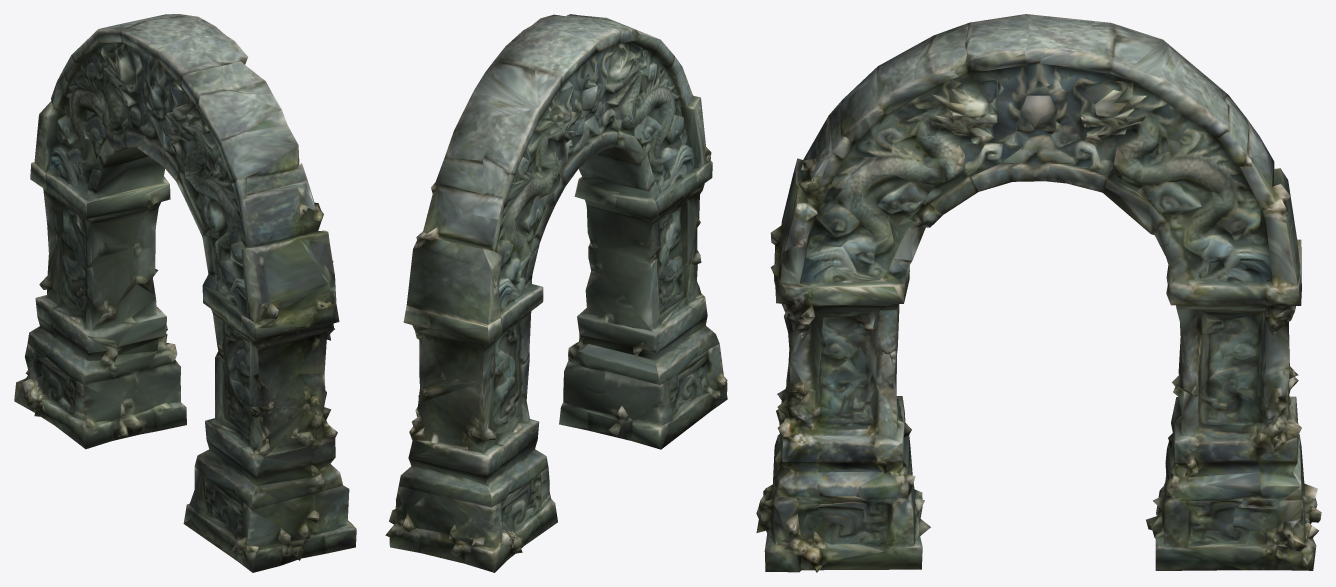
Rendered from arch.glb.
3 renders of one model, left to right at view 1: azimuth 30°, elevation 25°; view 2: azimuth 150°, elevation 25°; view 3: azimuth 270°, elevation 25°, orthographic. The views are drawn at different scales.
Parts seen in each view (by area): view 1: tripo_node_e386965e-c5b5-481d-958a-057273c23d0f; view 2: tripo_node_e386965e-c5b5-481d-958a-057273c23d0f; view 3: tripo_node_e386965e-c5b5-481d-958a-057273c23d0f.
Boxes of the visible parts, x1,y1,x2,y2 form: tripo_node_e386965e-c5b5-481d-958a-057273c23d0f: [14, 14, 356, 572]; tripo_node_e386965e-c5b5-481d-958a-057273c23d0f: [385, 14, 727, 572]; tripo_node_e386965e-c5b5-481d-958a-057273c23d0f: [756, 14, 1321, 572].
Bounding box in the file's own units: 0.282 × 0.9757 × 0.9728.
1 material, 1 textured.
